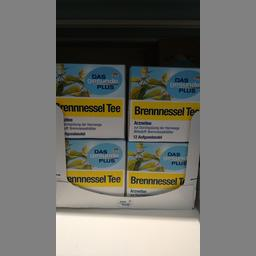tea: (126, 64, 199, 142), (55, 62, 126, 138), (126, 140, 188, 198), (64, 138, 123, 194)
